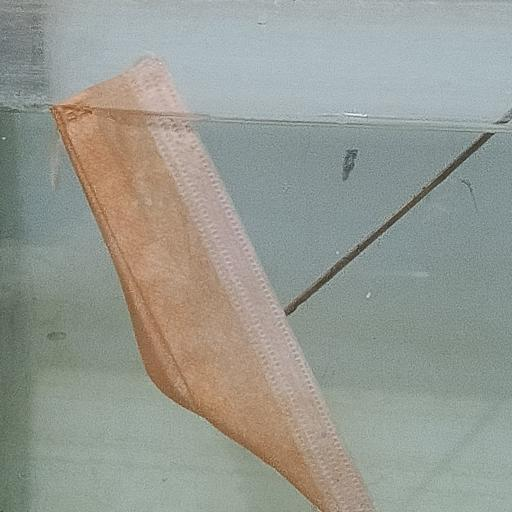mask: (55, 57, 374, 512)
